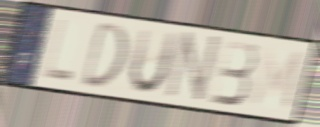B: (208, 38, 258, 108)
D: (78, 19, 130, 90)
L: (40, 16, 76, 83)
M: (247, 44, 307, 115)
N: (162, 29, 224, 107)
U: (128, 26, 181, 96)
